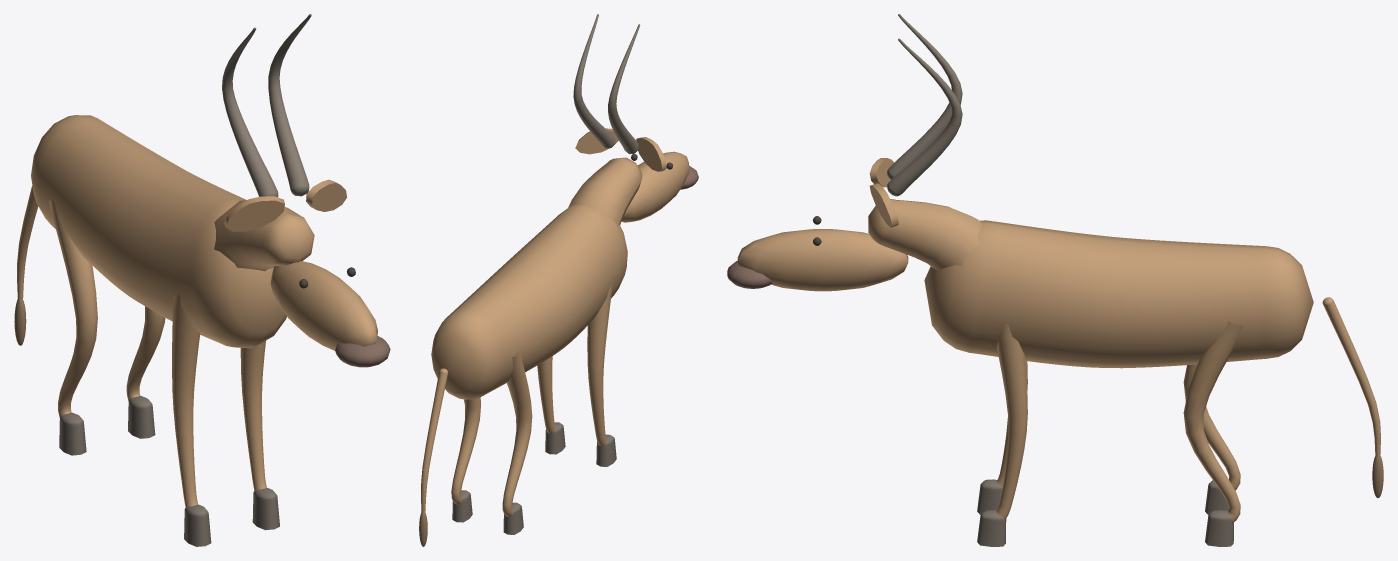
The model's file is impala.glb.
3 renders of one model, left to right at view 1: azimuth 30°, elevation 25°; view 2: azimuth 150°, elevation 25°; view 3: azimuth 270°, elevation 25°, orthographic. The views are drawn at different scales.
Parts seen in each view (by area): view 1: impala-ram; view 2: impala-ram; view 3: impala-ram.
Part boxes in pixels (x1,y1,x2,y2): impala-ram: (14, 14, 390, 546); impala-ram: (419, 14, 698, 546); impala-ram: (727, 14, 1383, 546).
Size of the model in its own units: 0.4386 by 1.9 by 2.25.
